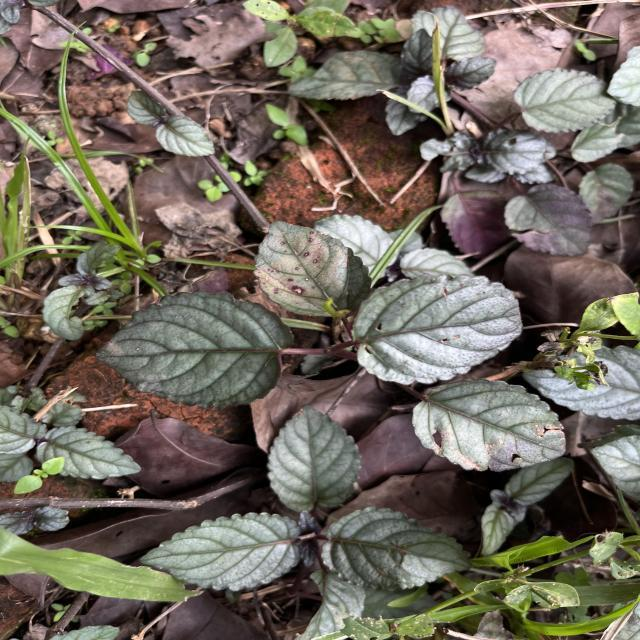Hemigraphis colorata: (88, 286, 294, 412), (349, 270, 526, 390), (411, 376, 568, 472), (316, 502, 478, 594), (136, 508, 310, 592), (251, 216, 376, 320), (263, 400, 365, 518), (35, 422, 144, 482)
